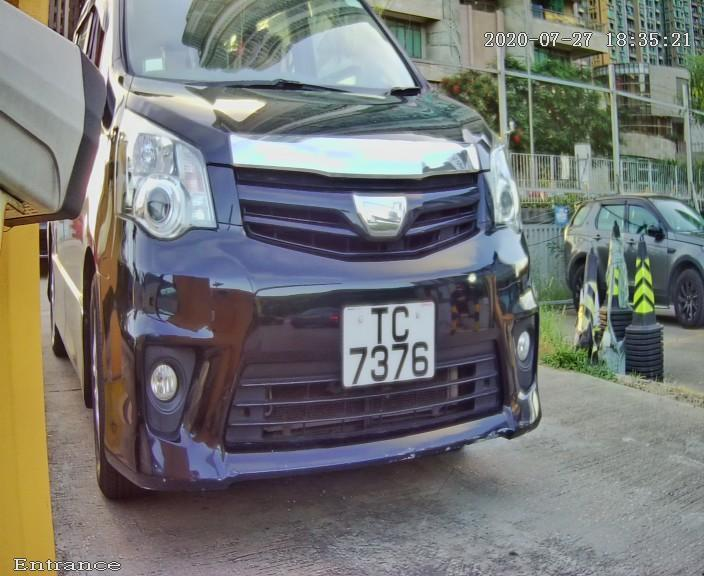privatecar: (32, 13, 604, 515)
